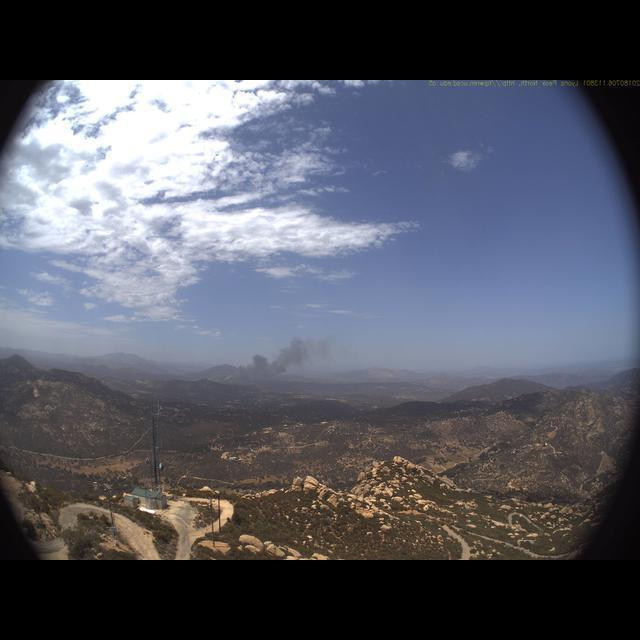Smoke: (194, 334, 334, 384)
